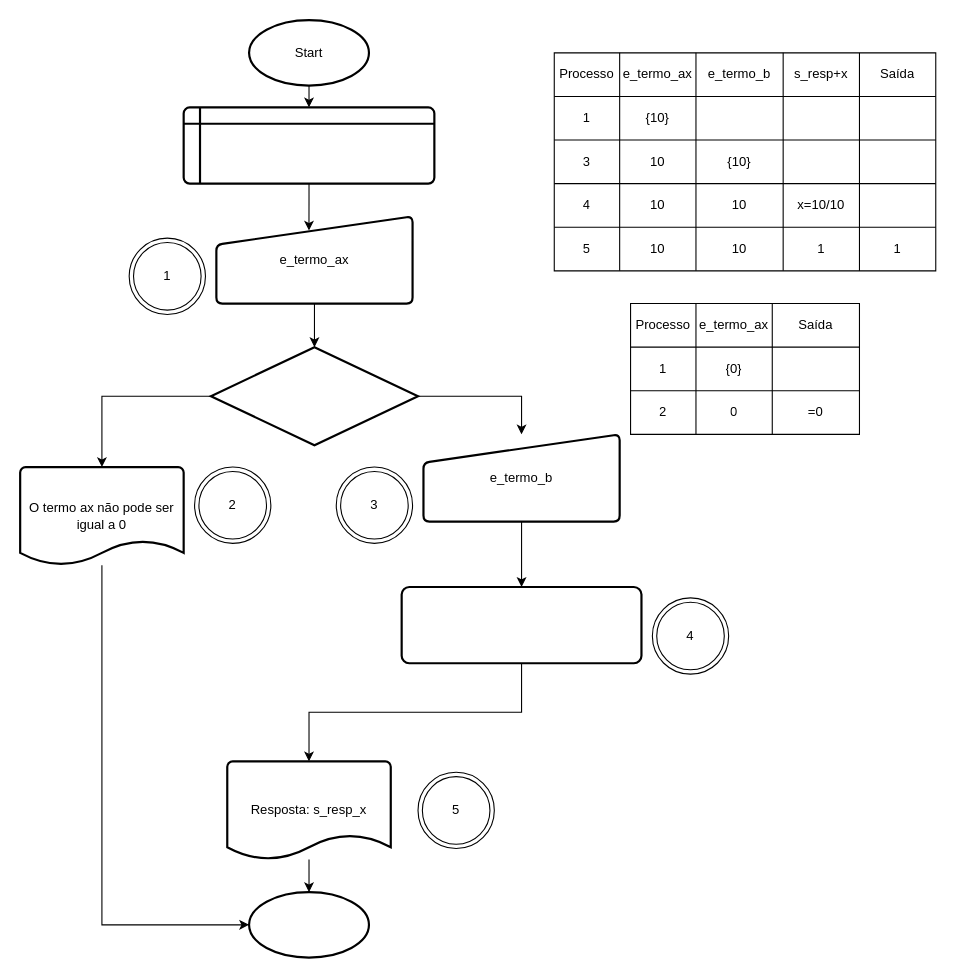
Image size: 955x977. Some labels were removed from this diagram. Each missing label, with the box of its shape:
e_termo_ax !=0: (209, 346, 419, 446)
e_termo_ax, e_termo_b, s_resp_X: (182, 106, 435, 184)
End: (247, 891, 370, 958)
s_resp_x = -e_termo_b/e_termo_ax: (400, 585, 642, 664)
